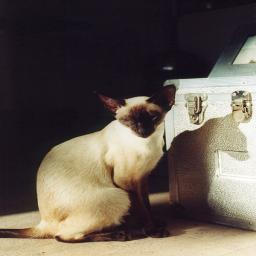catnose: (136, 126, 155, 136)
